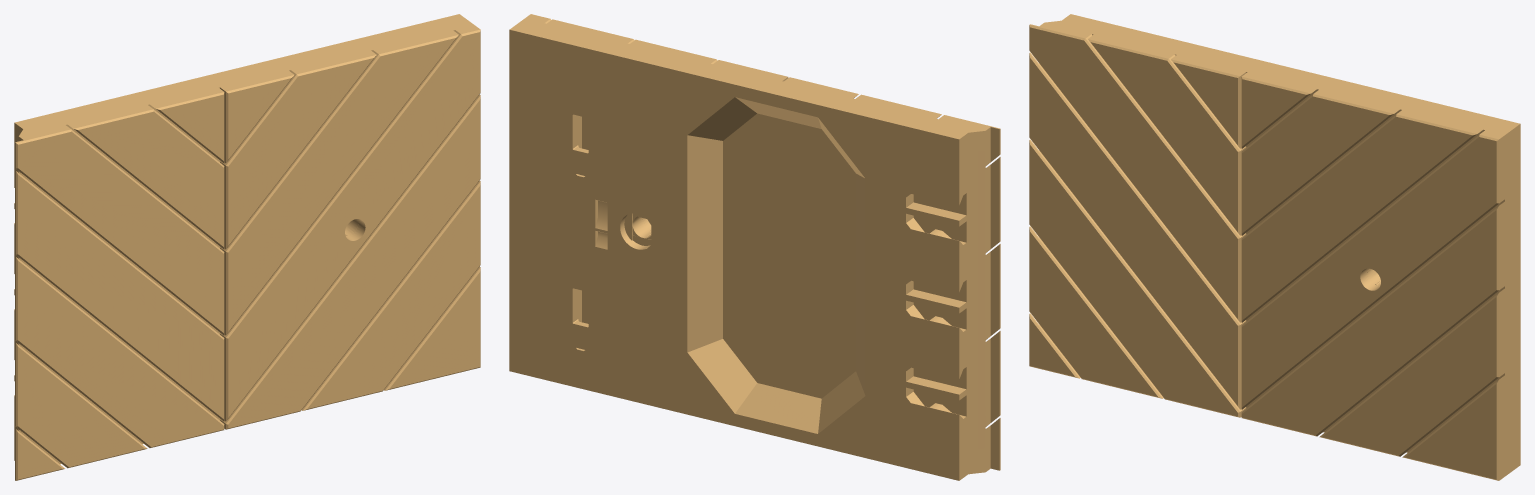
The model's file is Door_Chevron_1W-1H.lib.glb.
The picture shows the model from 3 angles, left to right: view 1: azimuth 30°, elevation 25°; view 2: azimuth 150°, elevation 25°; view 3: azimuth 330°, elevation 25°; orthographic projection.
Parts seen in each view (by area): view 1: Door_Chevron_1W-1H; view 2: Door_Chevron_1W-1H; view 3: Door_Chevron_1W-1H.
Part boxes in pixels (x1,y1,x2,y2): Door_Chevron_1W-1H: (14, 14, 480, 480); Door_Chevron_1W-1H: (509, 14, 1000, 480); Door_Chevron_1W-1H: (1029, 14, 1520, 480).
Size of the model in its own units: 79.15 by 55 by 6.5.
